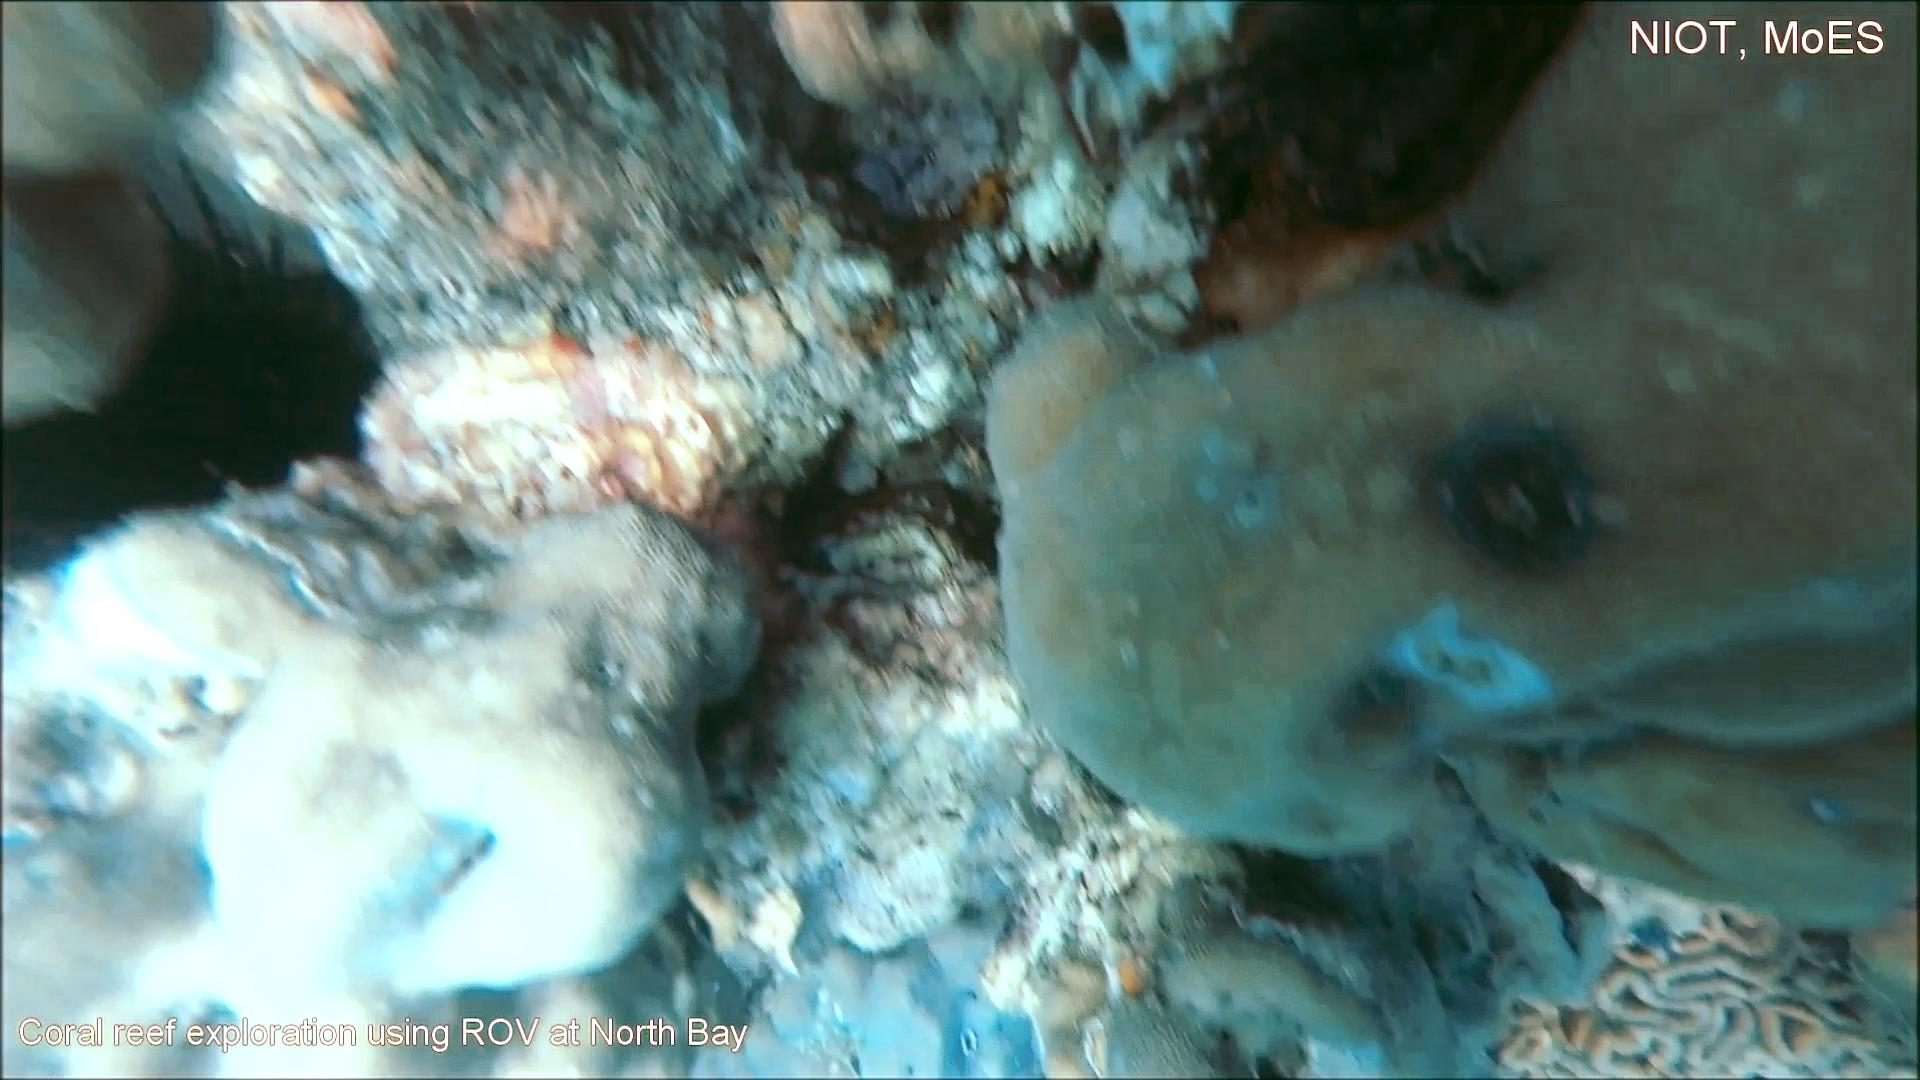Lobophyllia: (1486, 893, 1898, 1080)
